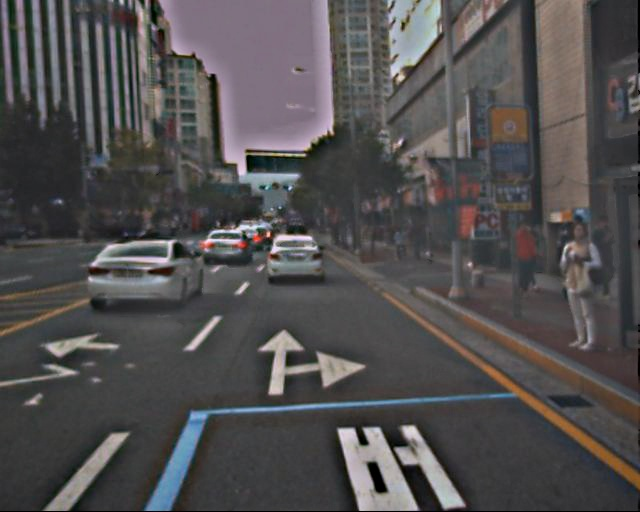person: (550, 223, 604, 354), (554, 216, 614, 300), (507, 220, 539, 299), (408, 221, 424, 260), (392, 226, 407, 262)
